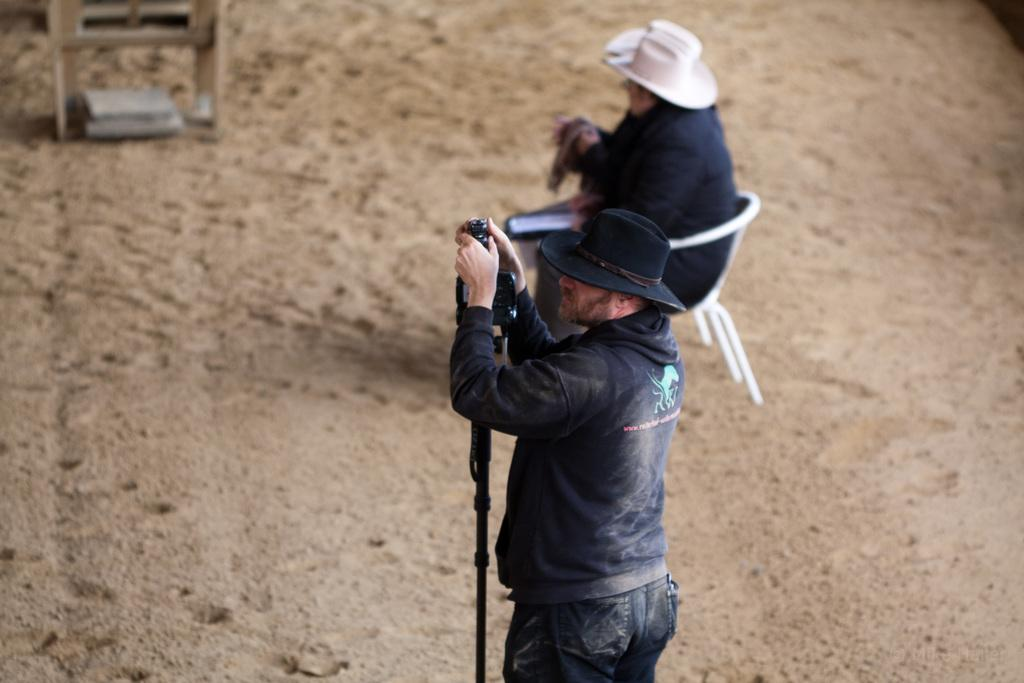Hat: (536, 209, 688, 312), (604, 28, 716, 110), (602, 16, 702, 58)
